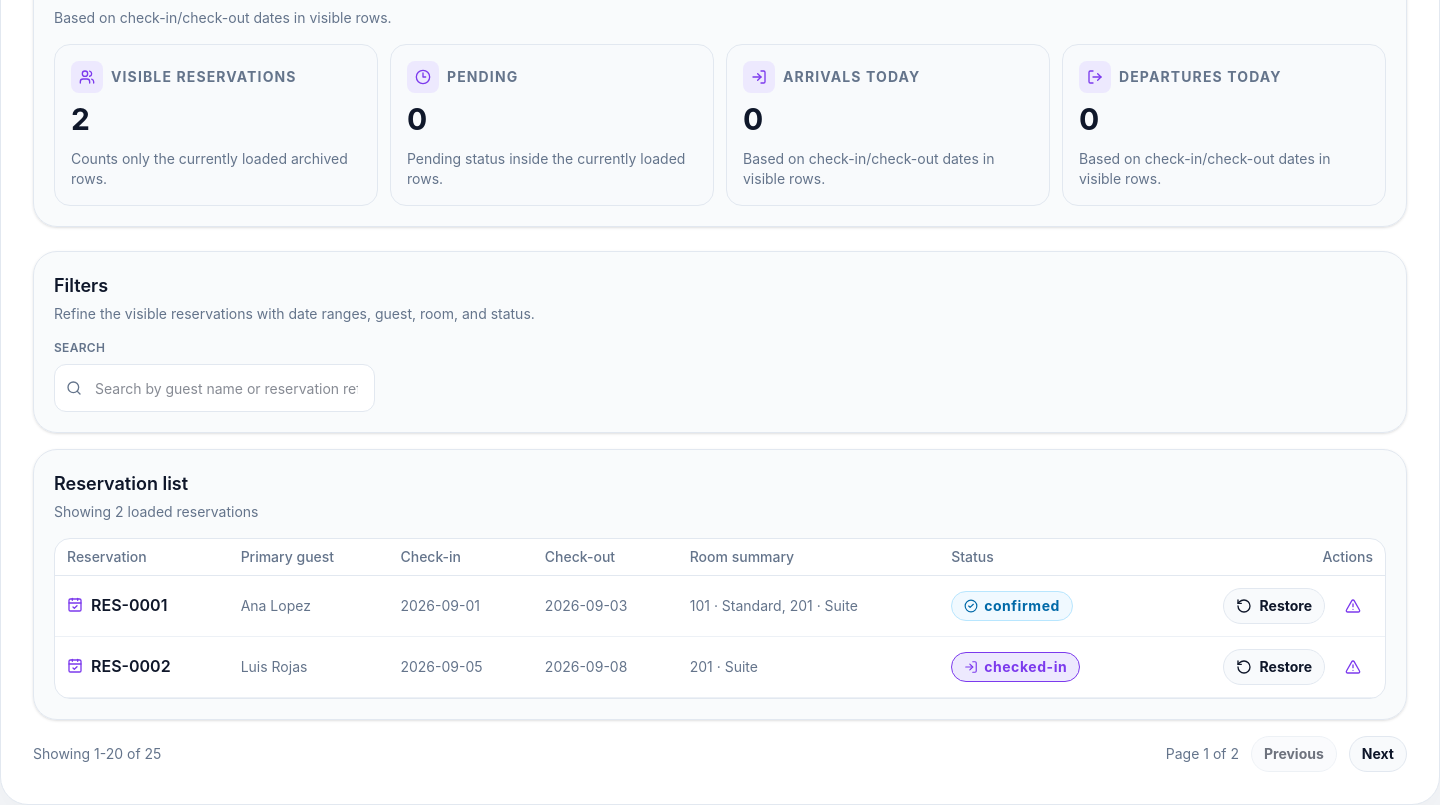
Test: ReservationsPage › requires strict confirmation and shows purge blockers
(page scrolled)
Click the button named "Purge reservation RES-0001 permanently" at (1353, 606), box [1333,588,1373,624]
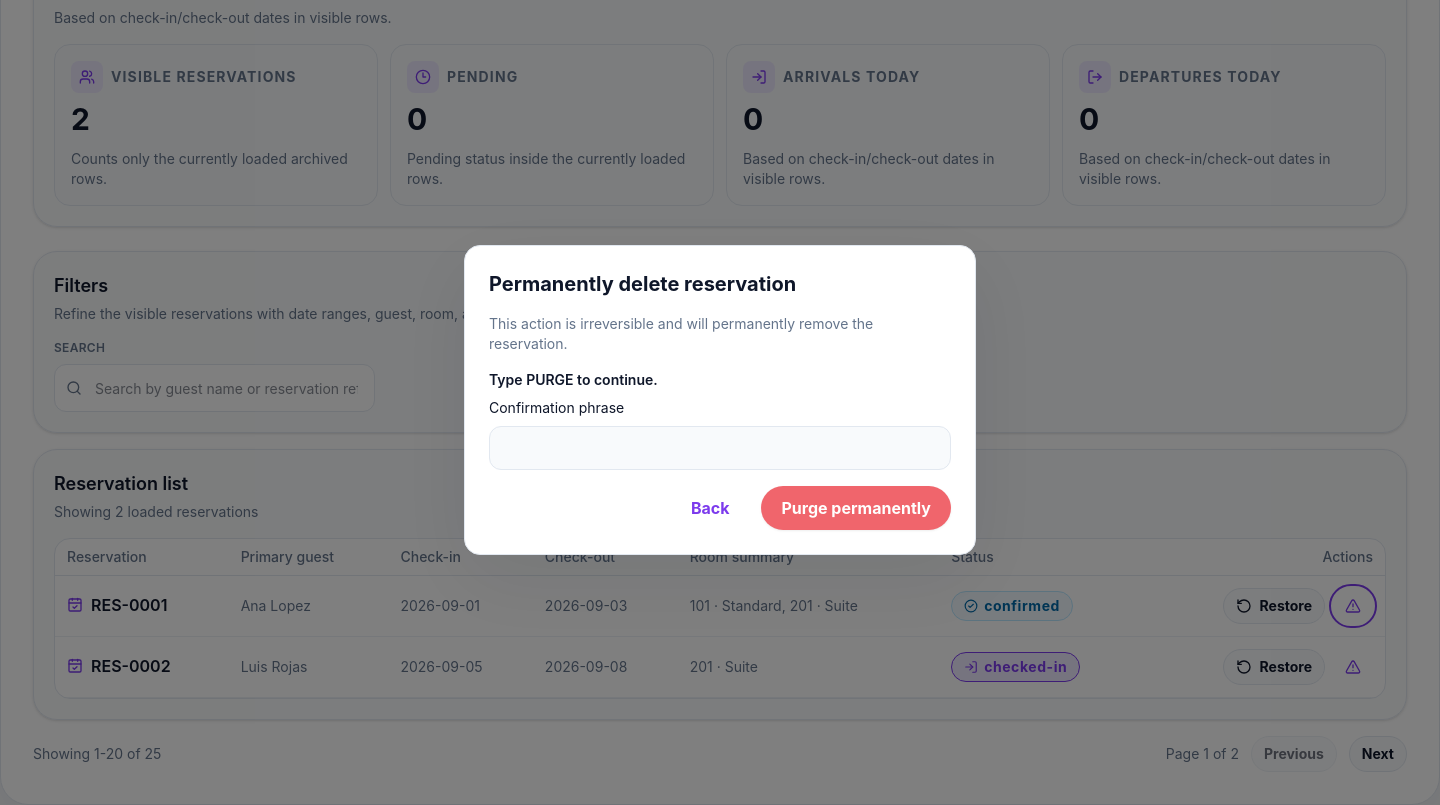
expect the heading "Permanently delete reservation" is shown: met, box [489,272,796,296]
expect the button "Purge permanently" is disabled: met, box [762,486,951,530]
Type "PURGE" into the field labelled "Confirmation phrase" at (720, 448), box [489,426,951,470]
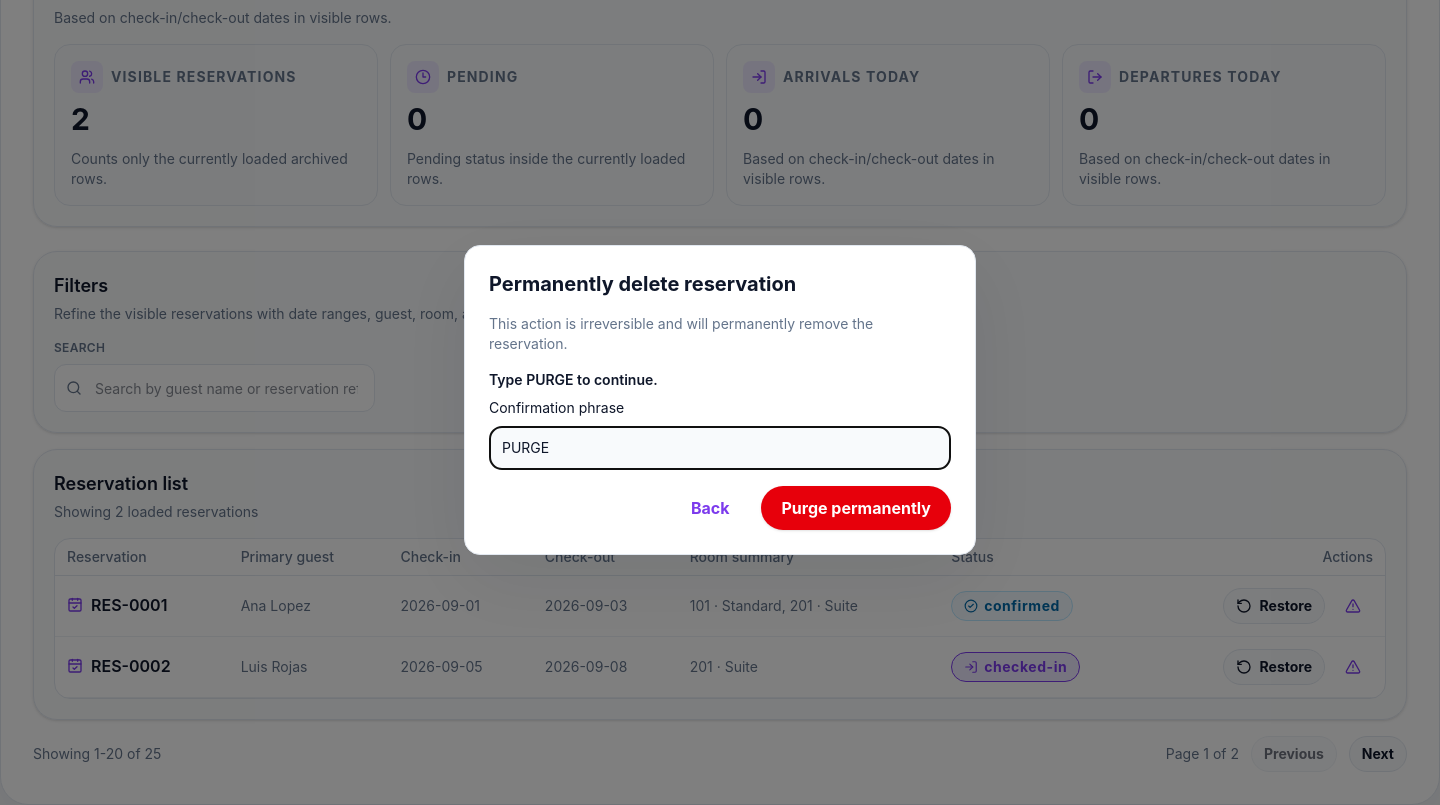
expect the button "Purge permanently" is enabled: met
Click the button "Purge permanently" at (856, 508), box [762,486,951,530]
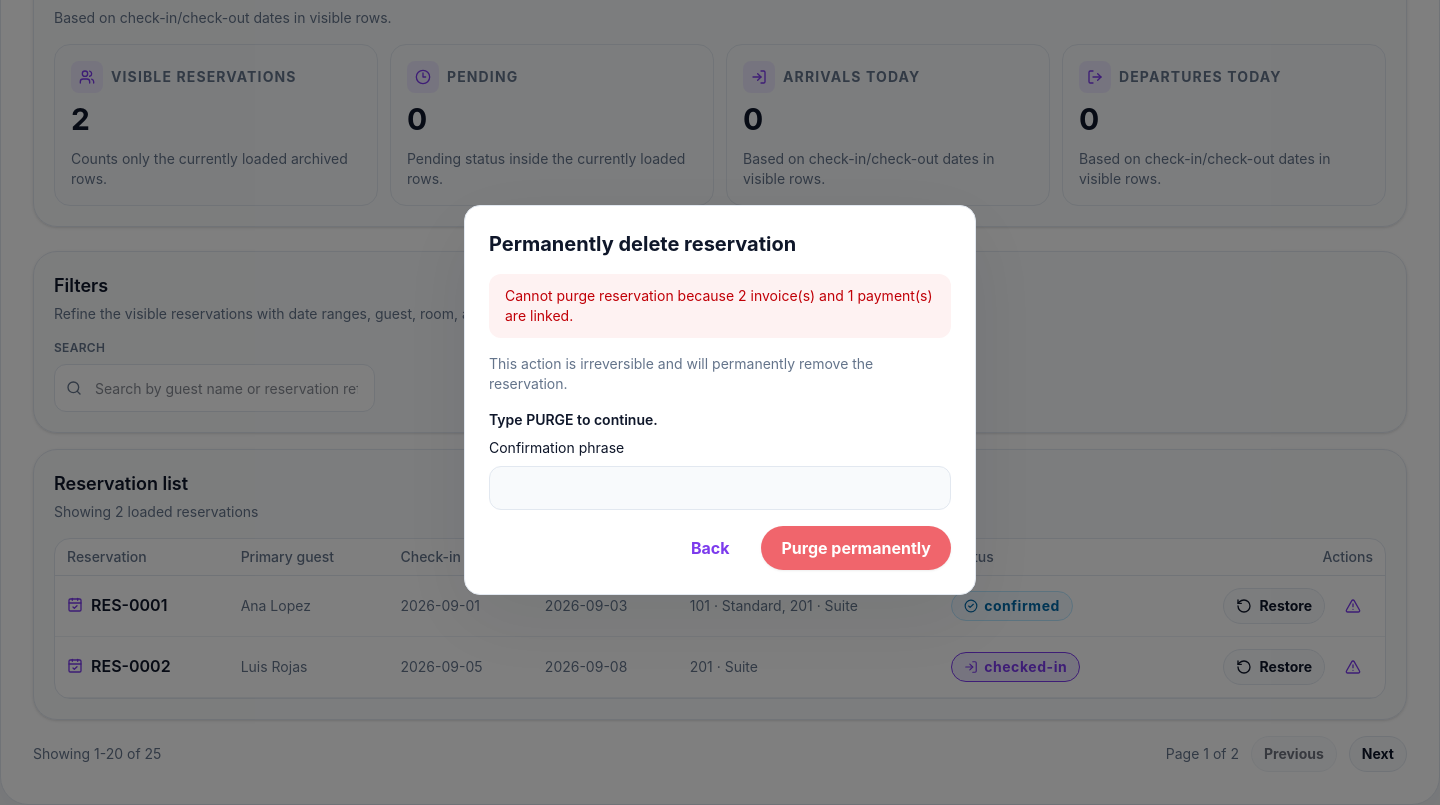
expect the text "Cannot purge reservation because 2 invoice(s) and 1 payment(s) are linked." is shown: met, box [489,274,951,338]
